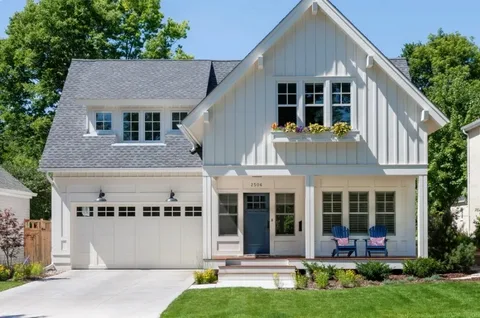private_hause: (62, 51, 421, 254)
